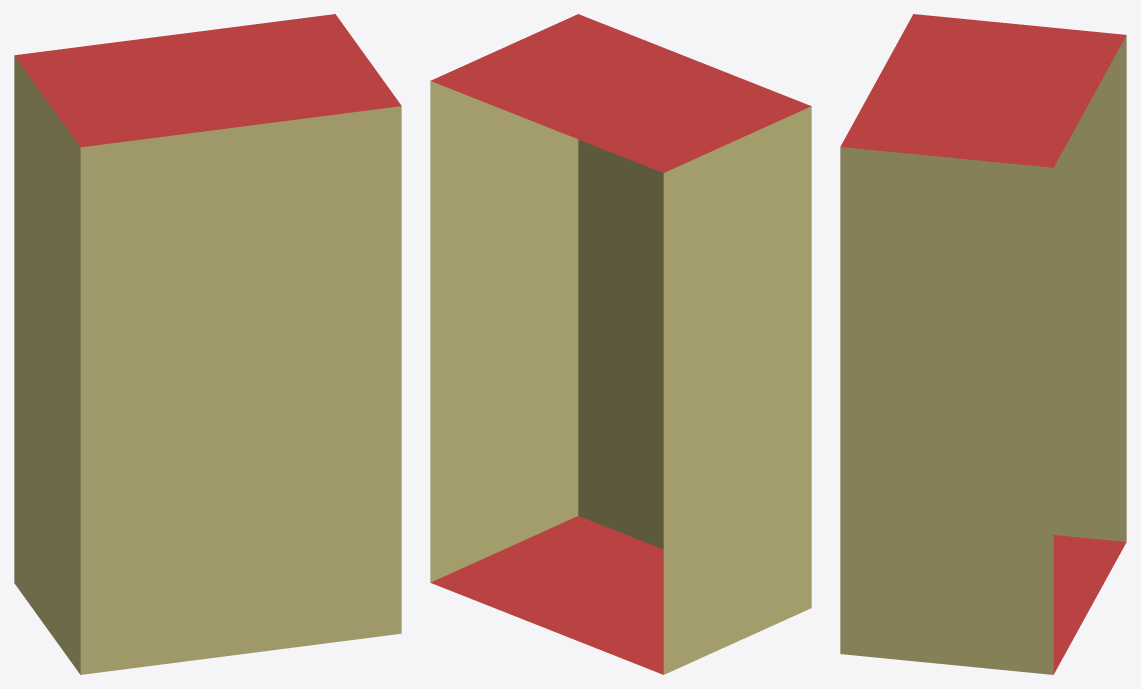
3 views of the same model, side by side, from view 1: azimuth 30°, elevation 25°; view 2: azimuth 150°, elevation 25°; view 3: azimuth 270°, elevation 25° (orthographic). The views are drawn at different scales.
Visible parts, largest first — view 1: group_4, group_3; view 2: group_4, group_3, group_5; view 3: group_4, group_3, group_5.
Part boxes in pixels (x1,y1,x2,y2): group_4: (14, 56, 401, 674); group_3: (14, 14, 401, 147); group_4: (430, 81, 811, 674); group_3: (430, 14, 811, 172); group_5: (430, 516, 663, 674); group_4: (840, 35, 1126, 674); group_3: (840, 14, 1126, 167); group_5: (1053, 535, 1126, 674).
Bounding box in the file's own units: 5.71 × 4.49 × 8.78.
